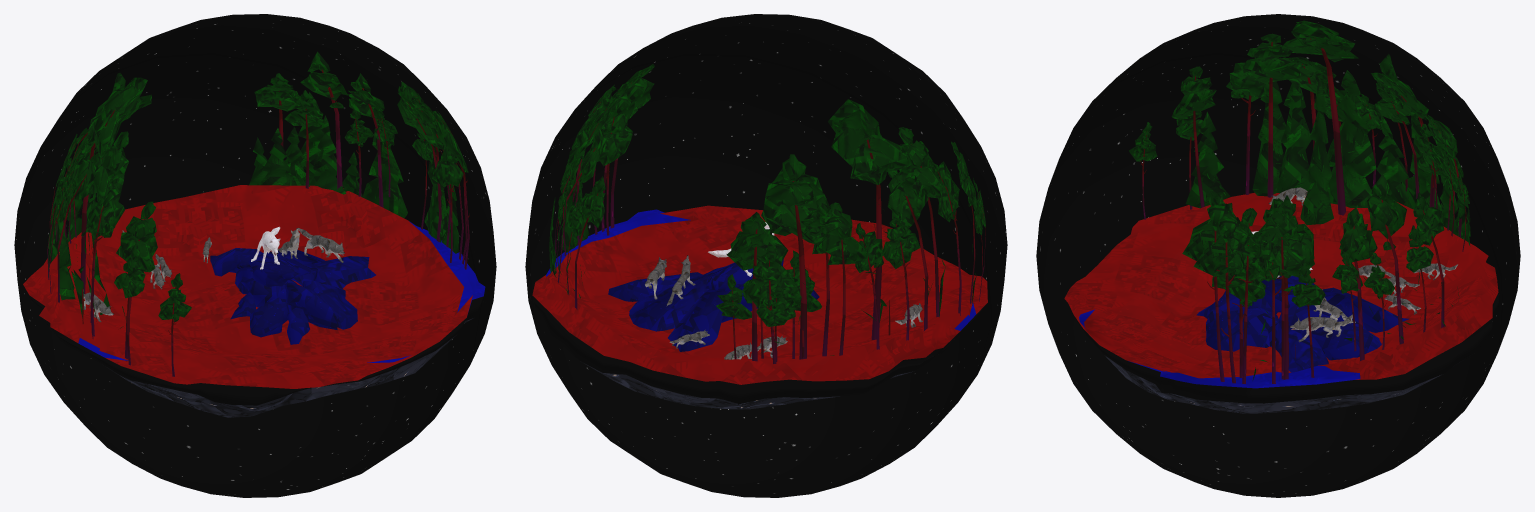
3 renders of one model, left to right at view 1: azimuth 30°, elevation 25°; view 2: azimuth 150°, elevation 25°; view 3: azimuth 270°, elevation 25°, orthographic.
Visible parts, largest first — view 1: starSphere1, ground, pineNeedles, spruceNeedles, rock, pineTrunks, WolfGeo2, WolfGeo1; view 2: starSphere1, ground, pineNeedles, pineTrunks, rock, spruceNeedles; view 3: starSphere1, ground, pineNeedles, spruceNeedles, pineTrunks, rock, WolfGeo2.
Part boxes in pixels (x1,y1,x2,y2): starSphere1: (14,14,496,497); ground: (23,185,485,417); pineNeedles: (55,51,468,321); spruceNeedles: (47,92,458,328); rock: (210,248,375,344); pineTrunks: (47,69,469,376); WolfGeo2: (298,228,344,262); WolfGeo1: (251,226,280,269); starSphere1: (525,14,1007,497); ground: (532,205,987,409); pineNeedles: (557,64,985,326); pineTrunks: (555,72,985,363); rock: (608,259,819,351); spruceNeedles: (549,112,976,359); starSphere1: (1036,14,1520,497); ground: (1064,192,1499,413); pineNeedles: (1129,20,1469,307); spruceNeedles: (1185,70,1470,380); pineTrunks: (1140,38,1466,383); rock: (1196,275,1408,372); WolfGeo2: (1290,314,1352,342).
Bounding box in the file's own units: 219 × 219 × 219.
8 materials, 8 textured.
